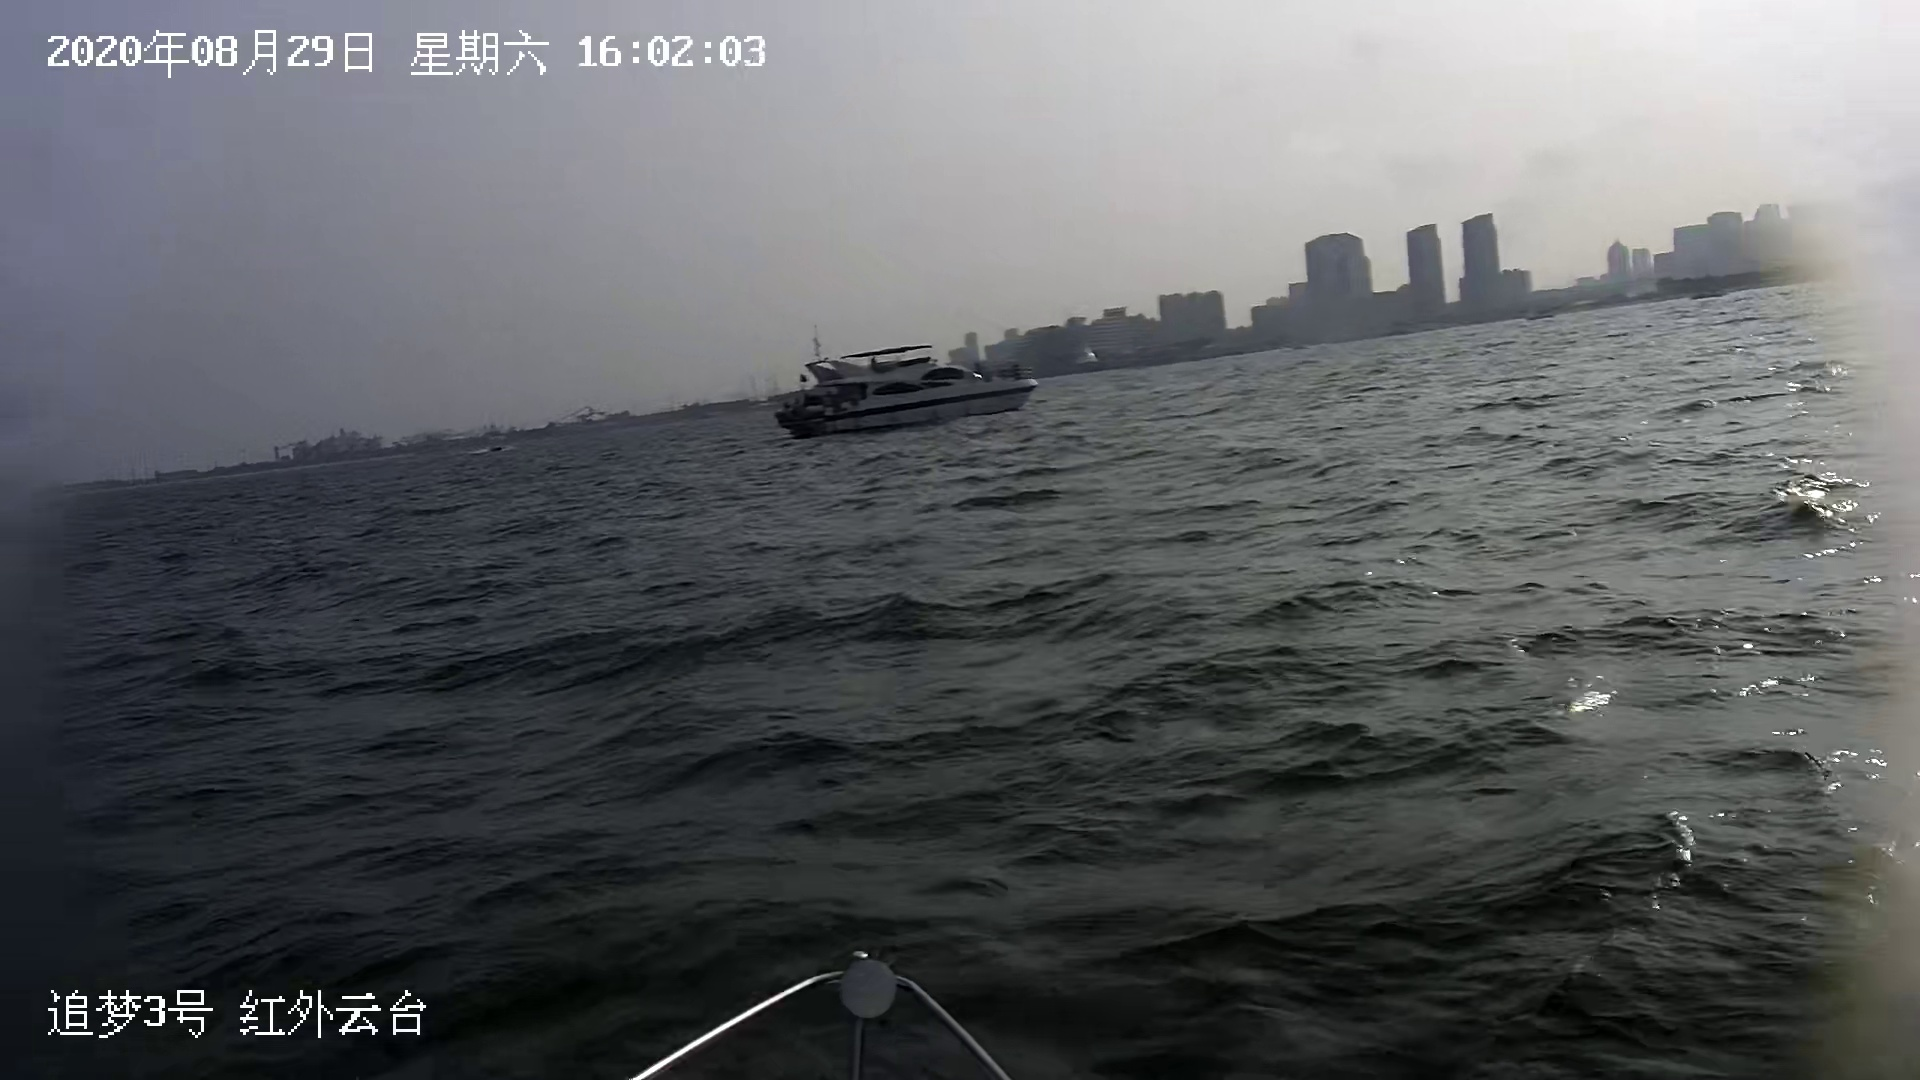barrier: (769, 339, 1048, 429)
coast: (67, 183, 1920, 489)
